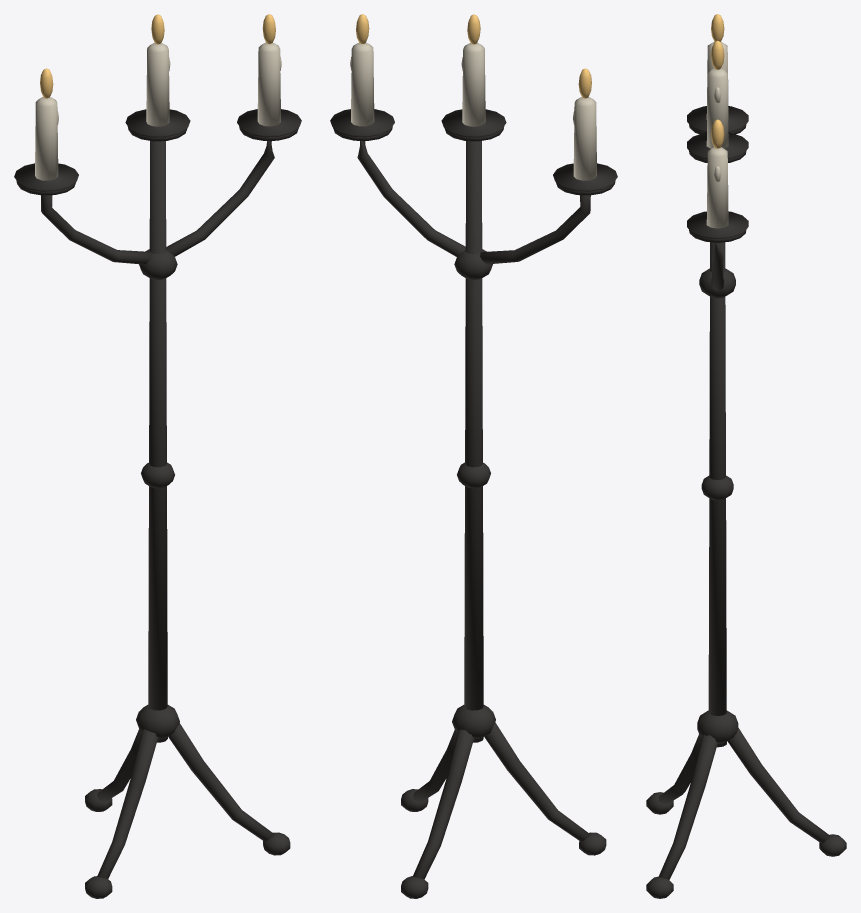
The model's file is candelabro.glb.
3 views of the same model, side by side, from view 1: azimuth 30°, elevation 25°; view 2: azimuth 150°, elevation 25°; view 3: azimuth 270°, elevation 25° (orthographic). The views are drawn at different scales.
Parts seen in each view (by area): view 1: Hierro, Cera; view 2: Hierro, Cera; view 3: Hierro, Cera.
Boxes of the visible parts, left/top/right/bottom form: Hierro: left=14, top=109, right=301, bottom=898; Cera: left=35, top=42, right=281, bottom=180; Hierro: left=330, top=109, right=617, bottom=898; Cera: left=350, top=42, right=596, bottom=180; Hierro: left=646, top=106, right=846, bottom=898; Cera: left=706, top=41, right=728, bottom=228.
Bounding box in the file's own units: 0.652 × 1.87 × 0.4171.
